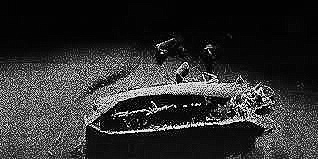ship: (77, 77, 276, 138)
